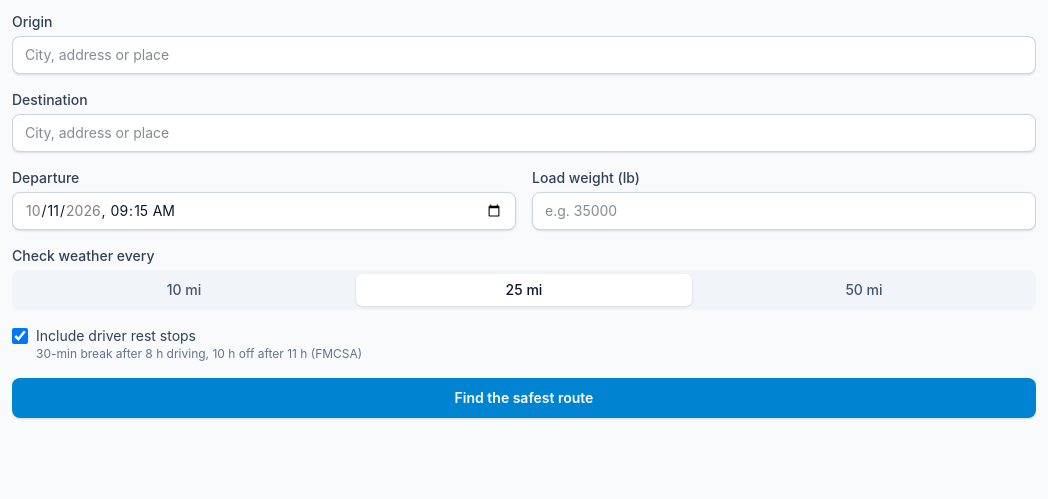
Test case: TripForm › clears a field error as soon as the field is edited
Click the button "Find the safest route" at (524, 398), box top-left (12, 378), bottom-right (1036, 418)
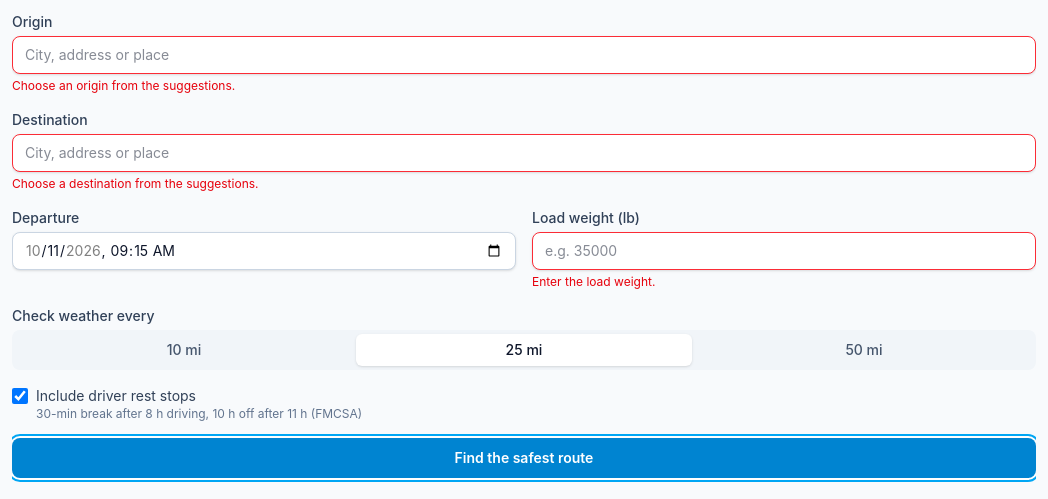
Type "1" into the number field labelled "Load weight (lb)" at (784, 251), box top-left (532, 232), bottom-right (1036, 270)
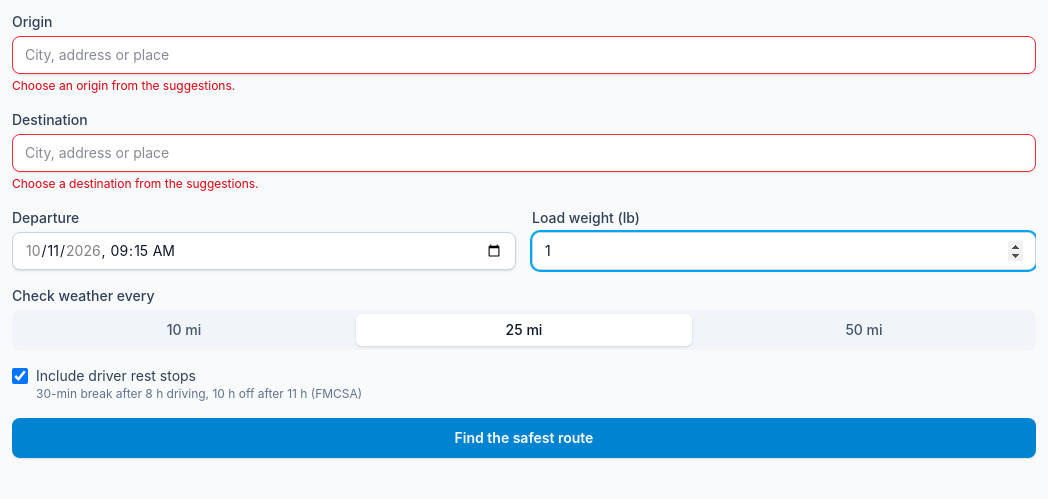
Expected: the text "Enter the load weight." is gone
